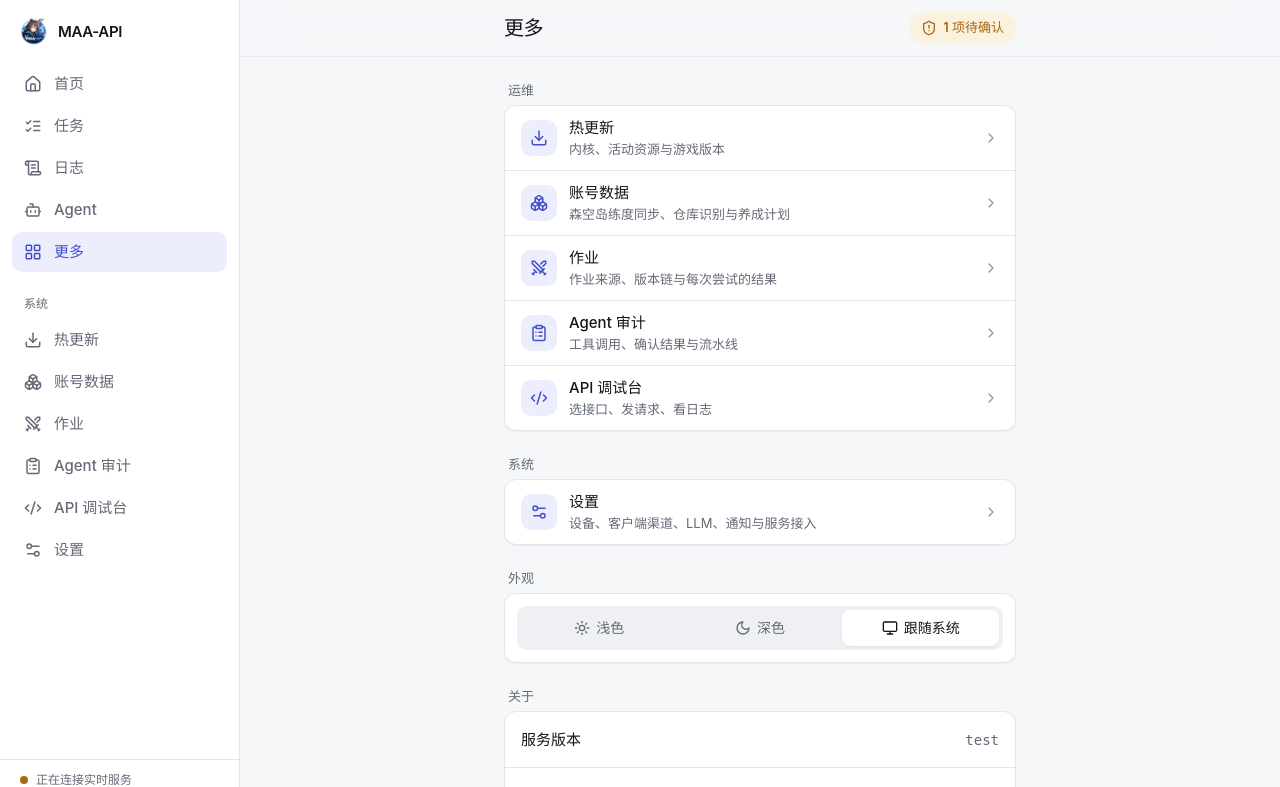
Test: global confirmation dock › shows a pending entry in the title bar outside the home page
Step 1. Click the button "1 项待确认" → click(963, 28), box [909, 12, 1016, 44]
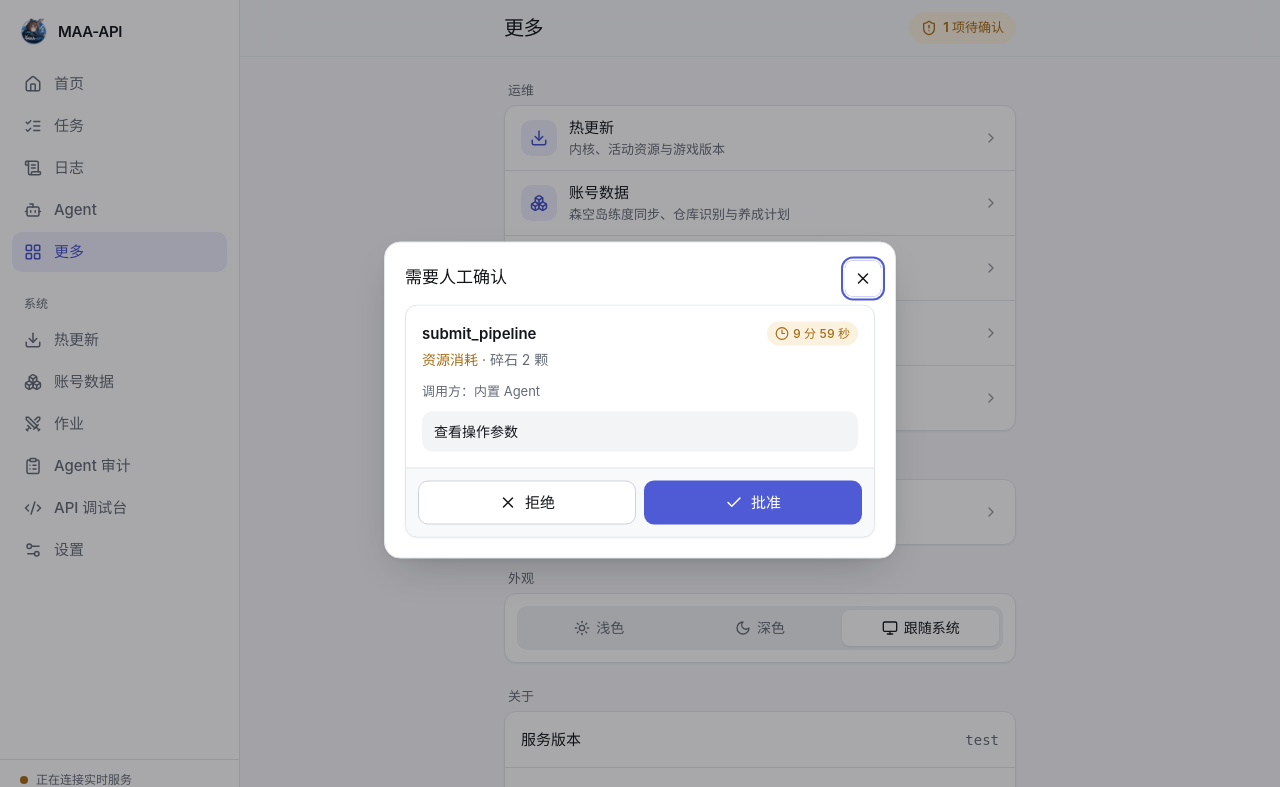
Now the heading "submit_pipeline" is shown, box [422, 322, 548, 346]
